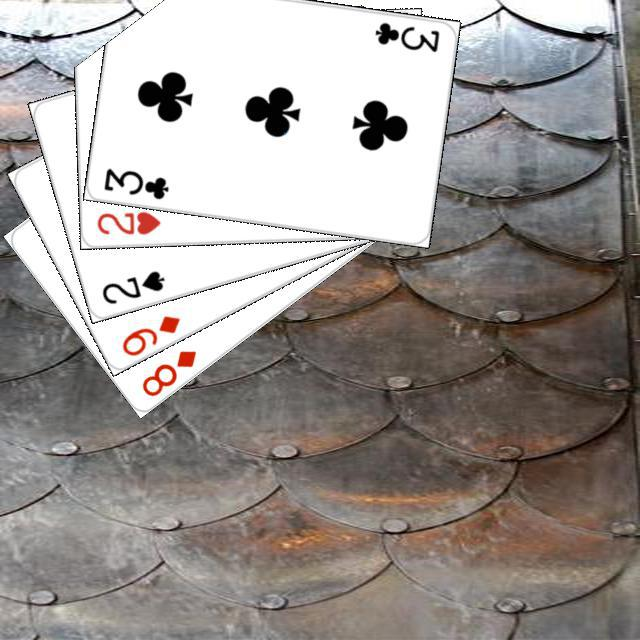2h: (92, 206, 162, 237)
2s: (96, 265, 166, 306)
3c: (99, 163, 171, 202), (369, 17, 441, 54)
8d: (136, 345, 199, 399)
9d: (117, 310, 182, 358)
